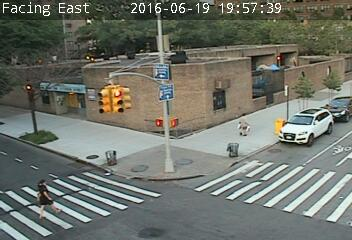neg: (328, 77, 341, 94), (55, 91, 66, 107), (74, 92, 85, 107)
pos: (25, 177, 56, 219), (232, 110, 252, 137)
